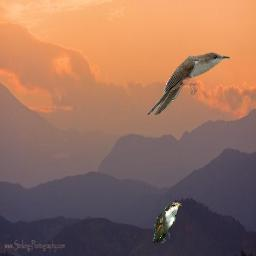Cuckoo: (147, 52, 230, 115), (153, 202, 182, 243)
